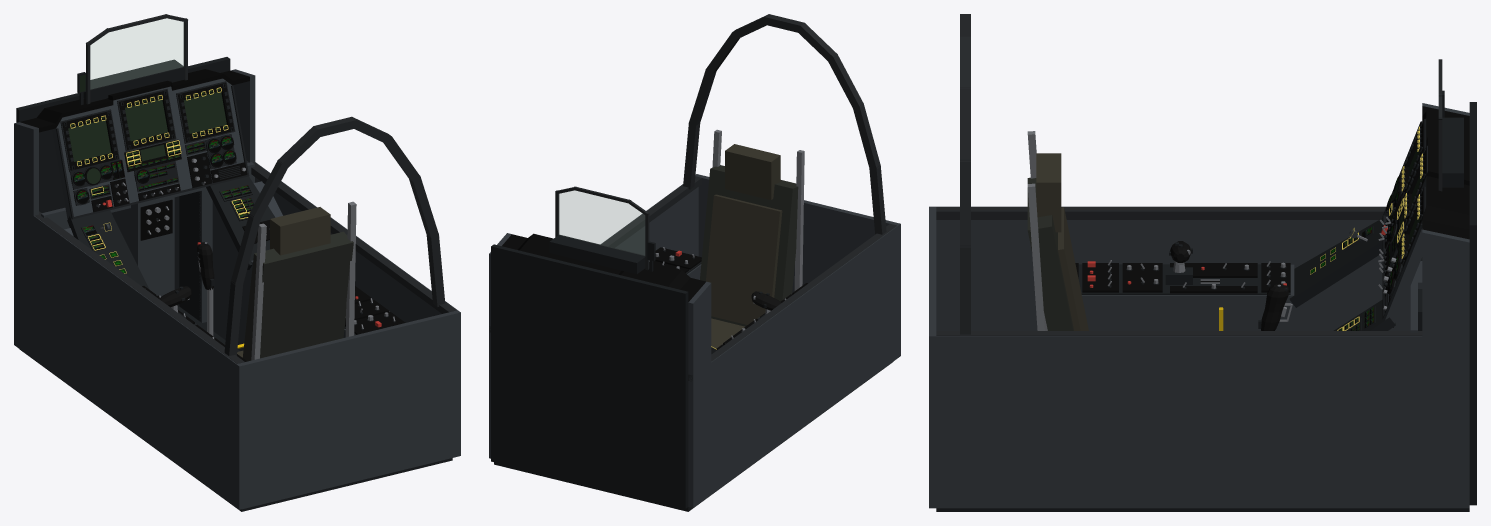
The model's file is cockpit_tornado.glb.
The picture shows the model from 3 angles, left to right: view 1: azimuth 30°, elevation 25°; view 2: azimuth 150°, elevation 25°; view 3: azimuth 270°, elevation 25°; orthographic projection. The views are drawn at different scales.
Parts seen in each view (by area): view 1: panel_grey.013, panel_grey.009, seat_95, hud_glass_69, panel_grey.017, panel_grey.011, panel_grey.008, dark, dark.010, cushion_97, frame.001, panel_grey.010 (+30 smaller); view 2: dark, panel_grey.009, cushion_96, panel_grey.013, hud_glass_69, seat_95, panel_grey.011, cushion_97, dark.256, panel_grey.010, black, frame (+12 smaller); view 3: panel_grey.011, panel_grey.009, panel_grey.005, frame, panel_grey.012, panel_grey.006, dark, black, dark.006, seat_95, panel_grey.013, frame.001 (+16 smaller).
Boxes of the visible parts, <box> form: panel_grey.013: <box>236,310,460,509</box>; panel_grey.009: <box>14,202,236,507</box>; seat_95: <box>242,231,353,361</box>; hud_glass_69: <box>90,18,183,88</box>; panel_grey.017: <box>111,194,174,296</box>; panel_grey.011: <box>255,162,457,322</box>; panel_grey.008: <box>212,181,282,350</box>; dark: <box>16,57,230,212</box>; dark.010: <box>179,191,200,321</box>; cushion_97: <box>270,207,330,255</box>; frame.001: <box>246,161,456,313</box>; panel_grey.010: <box>14,122,38,215</box>; dark: <box>491,244,688,508</box>; panel_grey.009: <box>688,225,897,507</box>; cushion_96: <box>706,194,782,324</box>; panel_grey.013: <box>695,174,900,357</box>; hud_glass_69: <box>559,191,644,255</box>; seat_95: <box>700,165,798,326</box>; panel_grey.011: <box>489,184,698,458</box>; cushion_97: <box>725,144,780,199</box>; dark.256: <box>549,234,645,274</box>; panel_grey.010: <box>688,281,711,375</box>; black: <box>518,233,690,289</box>; frame: <box>688,223,896,381</box>; panel_grey.011: <box>936,336,1469,508</box>; panel_grey.009: <box>936,206,1393,330</box>; panel_grey.005: <box>1082,264,1294,330</box>; frame: <box>936,207,1385,219</box>; panel_grey.012: <box>1422,229,1469,336</box>; panel_grey.006: <box>1294,254,1382,330</box>; dark: <box>1469,102,1476,505</box>; black: <box>1422,111,1469,229</box>; dark.006: <box>1289,218,1382,307</box>; seat_95: <box>1027,177,1073,330</box>; panel_grey.013: <box>929,206,936,508</box>; frame.001: <box>936,331,1422,335</box>.
Bounding box in the file's own units: 0.84 × 1.28 × 1.5.
Materials: 27 (6 with a texture image).
